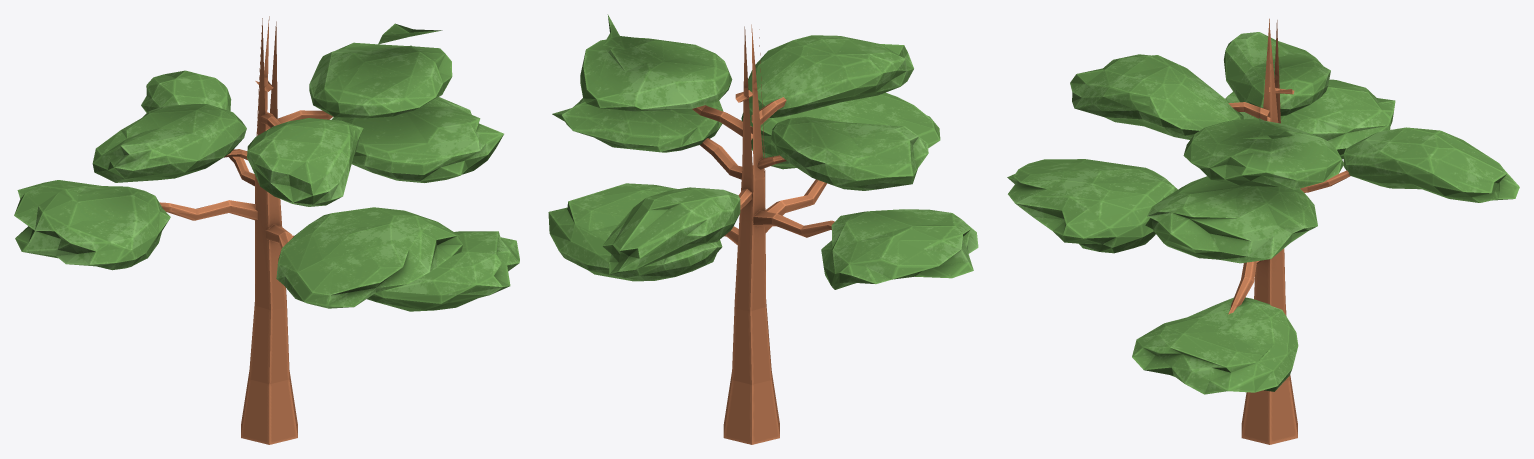
The model's file is BubingaTreeSapling.gltf.
3 renders of one model, left to right at view 1: azimuth 30°, elevation 25°; view 2: azimuth 150°, elevation 25°; view 3: azimuth 270°, elevation 25°, orthographic.
Parts seen in each view (by area): view 1: node-0; view 2: node-0; view 3: node-0.
Boxes of the visible parts, bbox=[...] form: node-0: bbox=[14, 16, 519, 444]; node-0: bbox=[548, 14, 978, 444]; node-0: bbox=[1007, 18, 1519, 444].
Bounding box in the file's own units: 7.38 × 6.36 × 7.14.
1 material, 1 textured.
